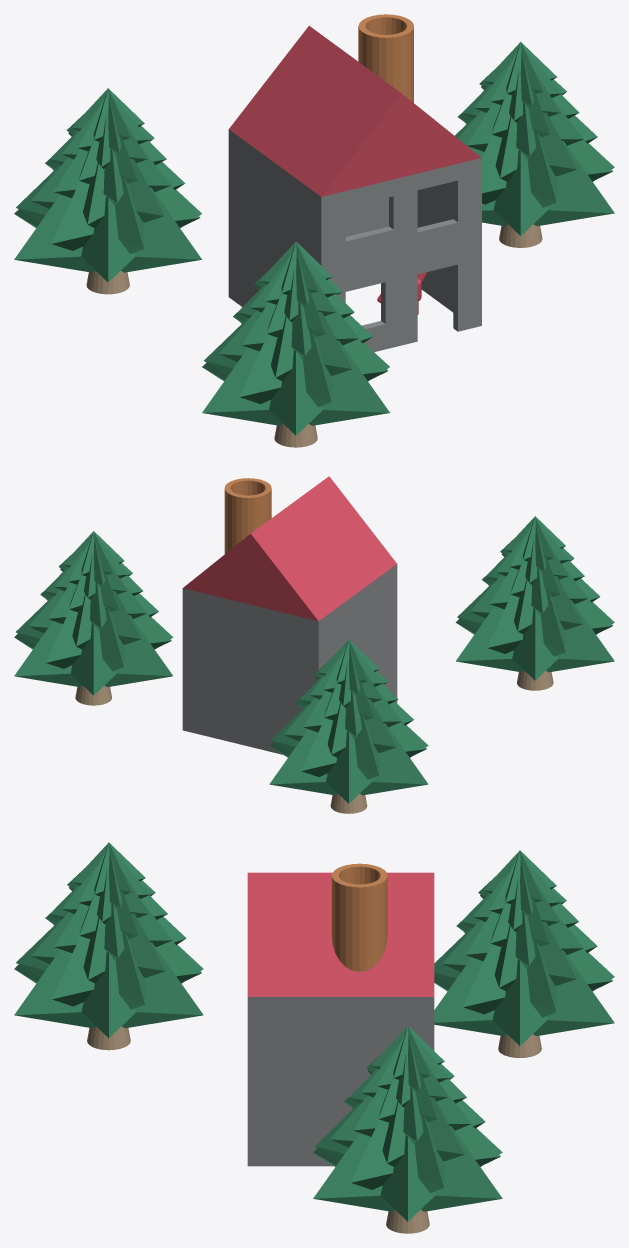
The model's file is asset.glb.
The picture shows the model from 3 angles, top to bottom: view 1: azimuth 30°, elevation 25°; view 2: azimuth 150°, elevation 25°; view 3: azimuth 270°, elevation 25°; orthographic projection. The views are drawn at different scales.
Visible parts, largest first — view 1: Mesh_Mesh_head_geo.001_lambert2SG.001; view 2: Mesh_Mesh_head_geo.001_lambert2SG.001; view 3: Mesh_Mesh_head_geo.001_lambert2SG.001.
Boxes of the visible parts, box(x1,y1,x2,y2) form: Mesh_Mesh_head_geo.001_lambert2SG.001: box(14, 14, 614, 447); Mesh_Mesh_head_geo.001_lambert2SG.001: box(14, 476, 614, 813); Mesh_Mesh_head_geo.001_lambert2SG.001: box(14, 842, 614, 1233).
Size of the model in its own units: 69.93 by 32 by 64.32.
